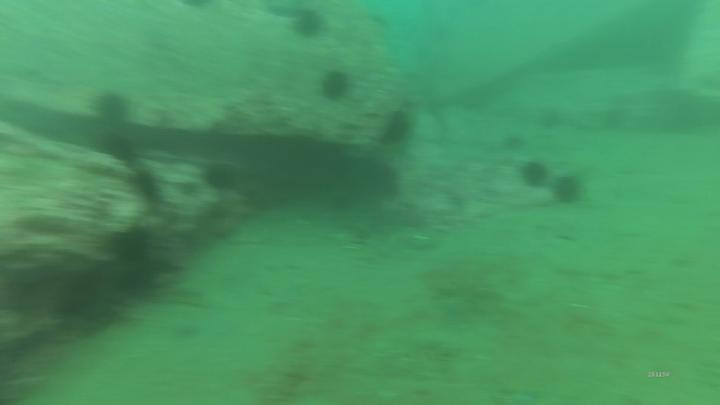echinus: (110, 225, 162, 296), (92, 91, 132, 126), (382, 110, 414, 151), (520, 154, 551, 194), (317, 70, 353, 103), (556, 173, 589, 209), (203, 160, 239, 193), (294, 10, 328, 40)
